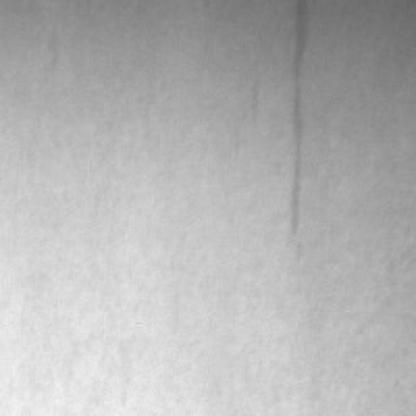inclusion: (274, 0, 320, 256)
